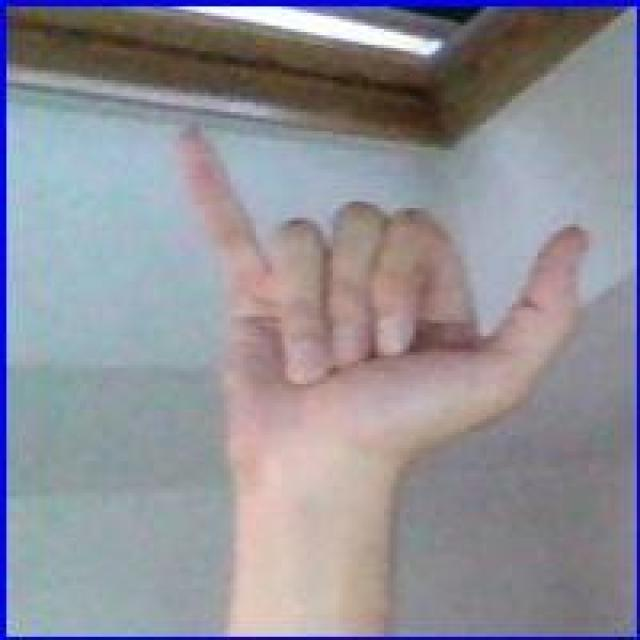Y: (168, 117, 594, 475)
